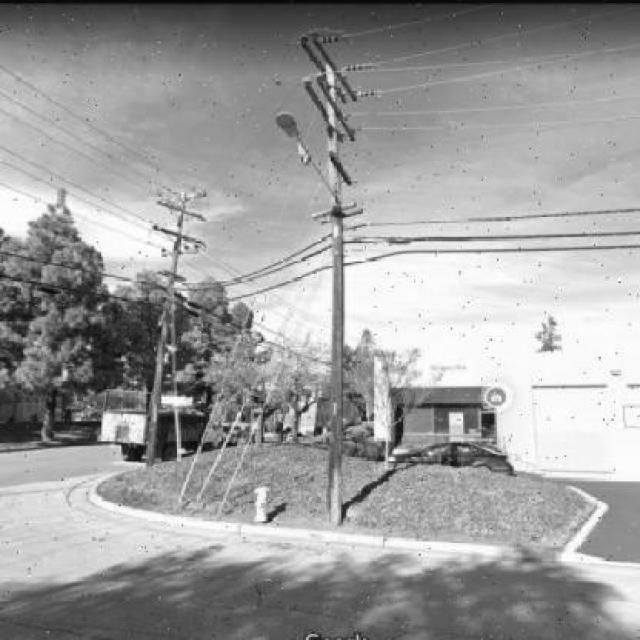crossarm: (300, 34, 358, 102), (303, 74, 357, 143)
pole: (325, 68, 354, 517)
wire: (231, 208, 640, 282), (226, 243, 640, 298), (223, 231, 640, 285), (348, 1, 640, 68), (345, 45, 640, 75), (354, 95, 640, 115), (374, 69, 522, 98), (342, 6, 475, 38), (369, 117, 640, 131)
